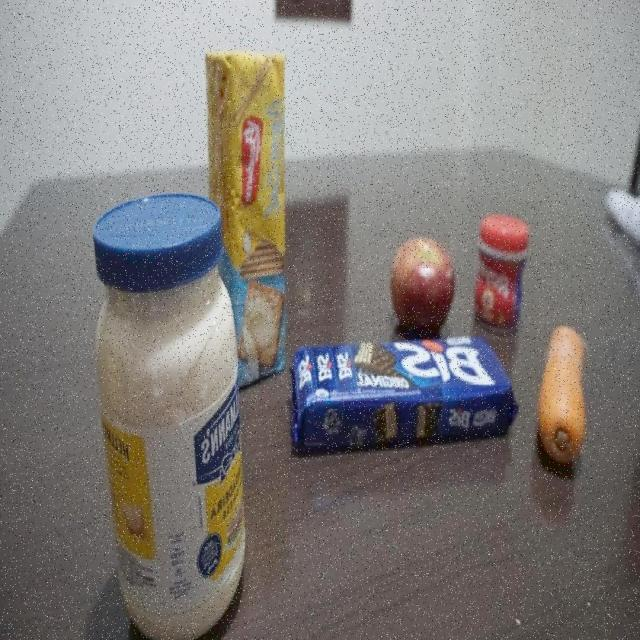Apple: (389, 236, 458, 332)
Carrot: (539, 328, 589, 472)
Cracker: (200, 46, 289, 398)
Mayonnaise: (87, 191, 246, 640)
Yeast: (470, 211, 530, 333)
